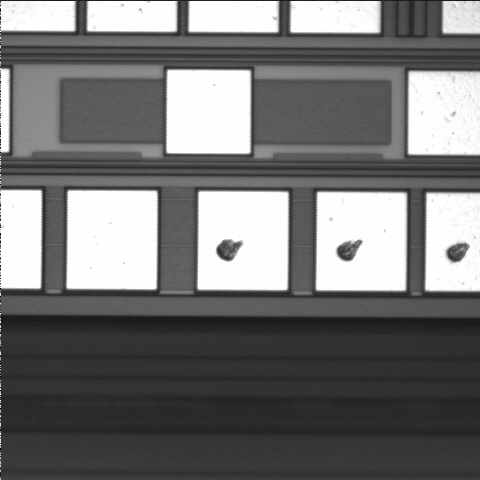pad: (198, 191, 288, 290), (316, 192, 406, 291), (67, 191, 157, 289), (167, 70, 250, 154)
